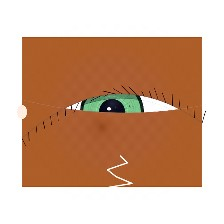foreign_body_visible: (35, 80, 77, 113)
